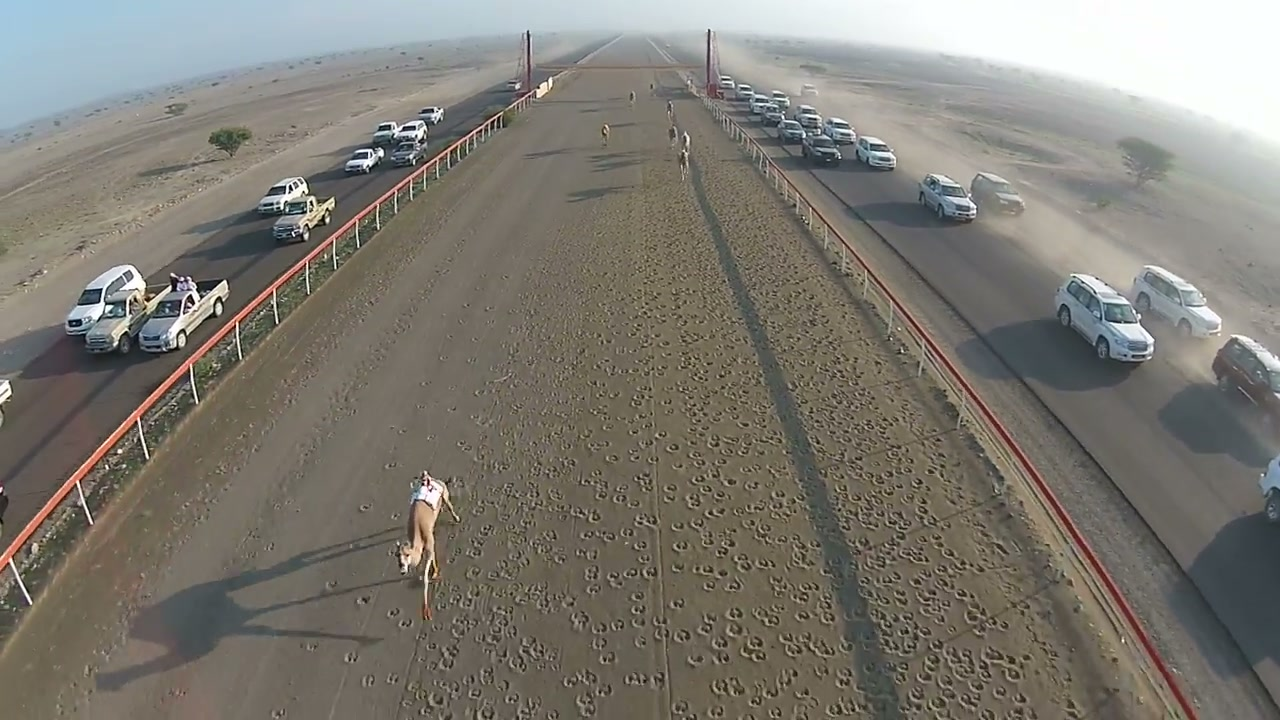animal_footprint: (417, 116, 1111, 717)
